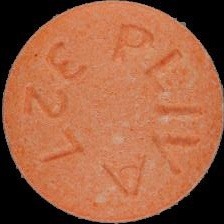51079-075: (0, 0, 224, 224)
